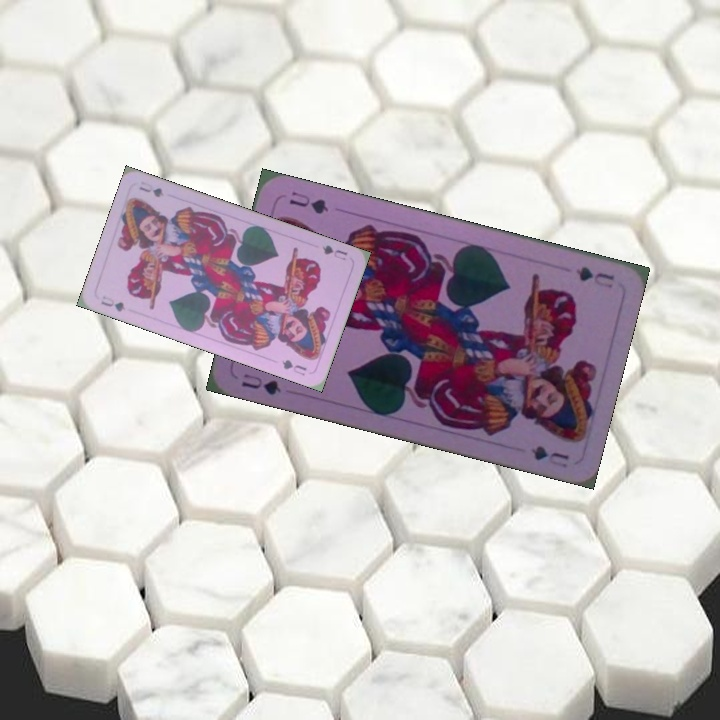GU: (237, 369, 284, 398), (572, 262, 617, 291), (318, 241, 350, 263), (97, 292, 128, 314)
